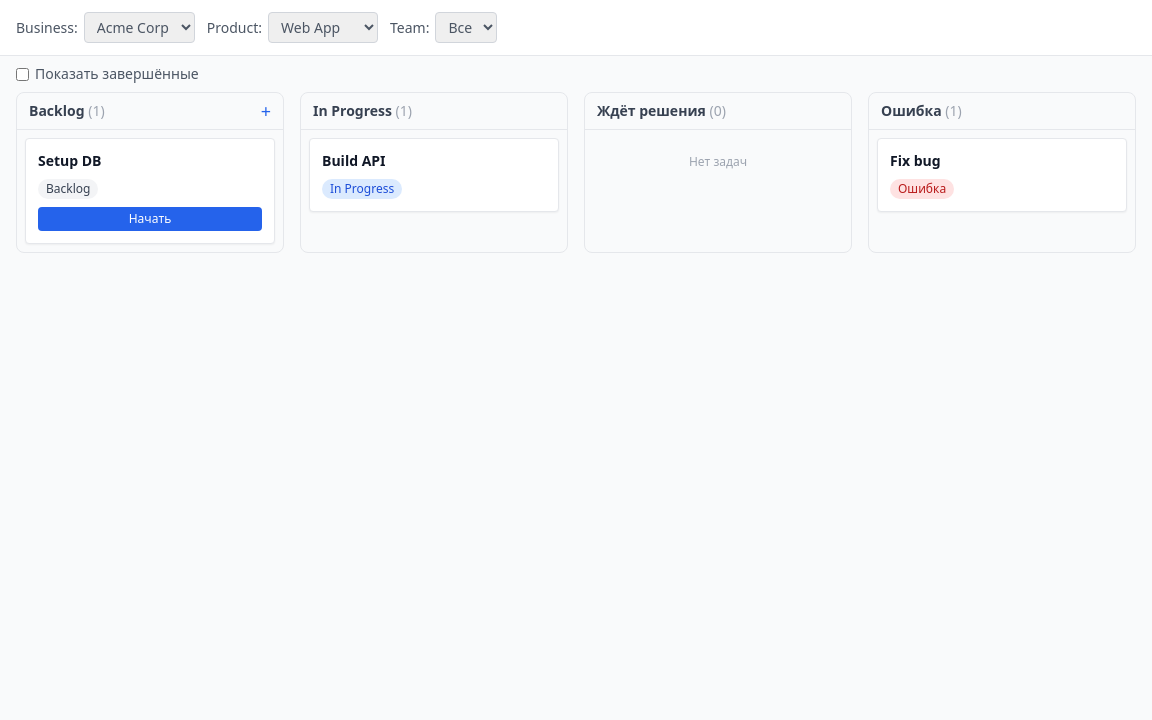
Test: Dashboard › opens create task modal from backlog "+" button
The image size is (1152, 720).
Check: the text "Setup DB" is shown, box [38,151,102,170]
Click the button titled "Создать задачу". click: (266, 111)
box: [261,102,271,120]
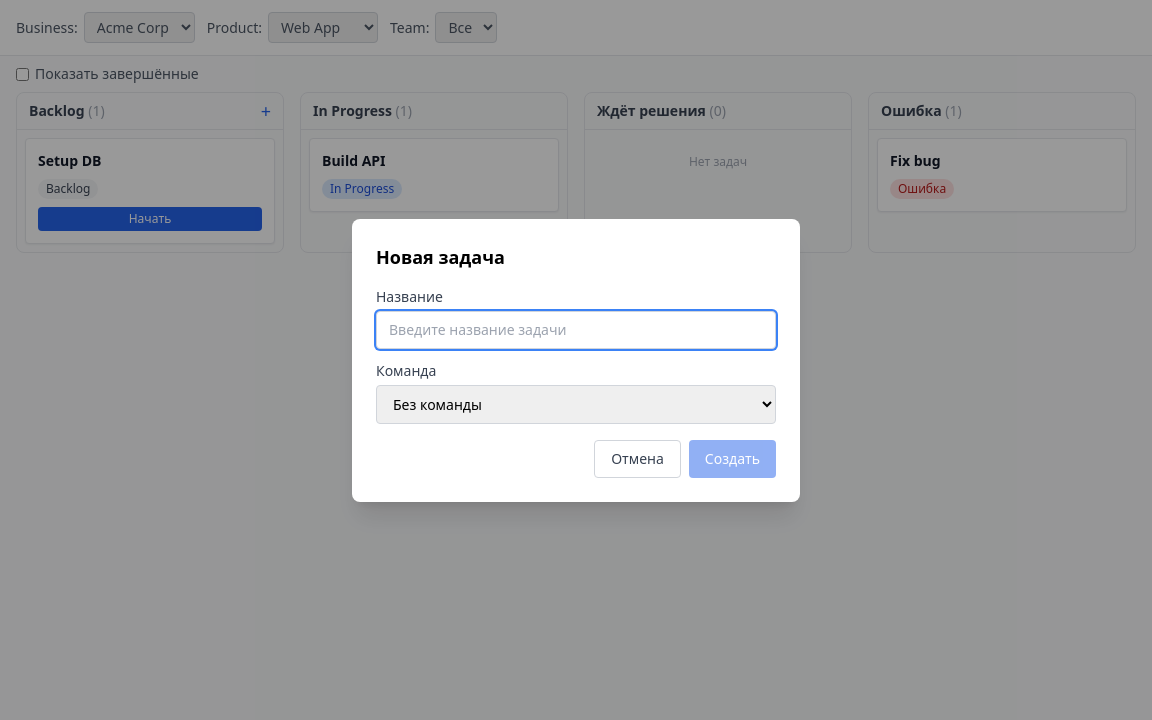
Check: the heading "Новая задача" is shown, box [376,244,505,268]
